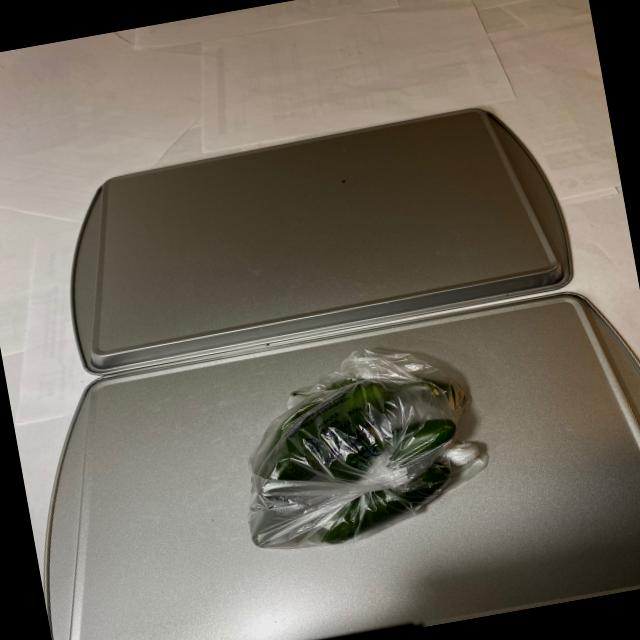chilli: (244, 356, 483, 554)
